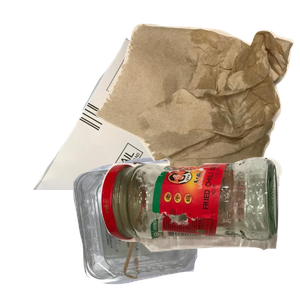glass: (98, 155, 300, 300)
paper: (31, 35, 271, 215)
plastic: (71, 154, 300, 300)
trash: (92, 21, 300, 201)
